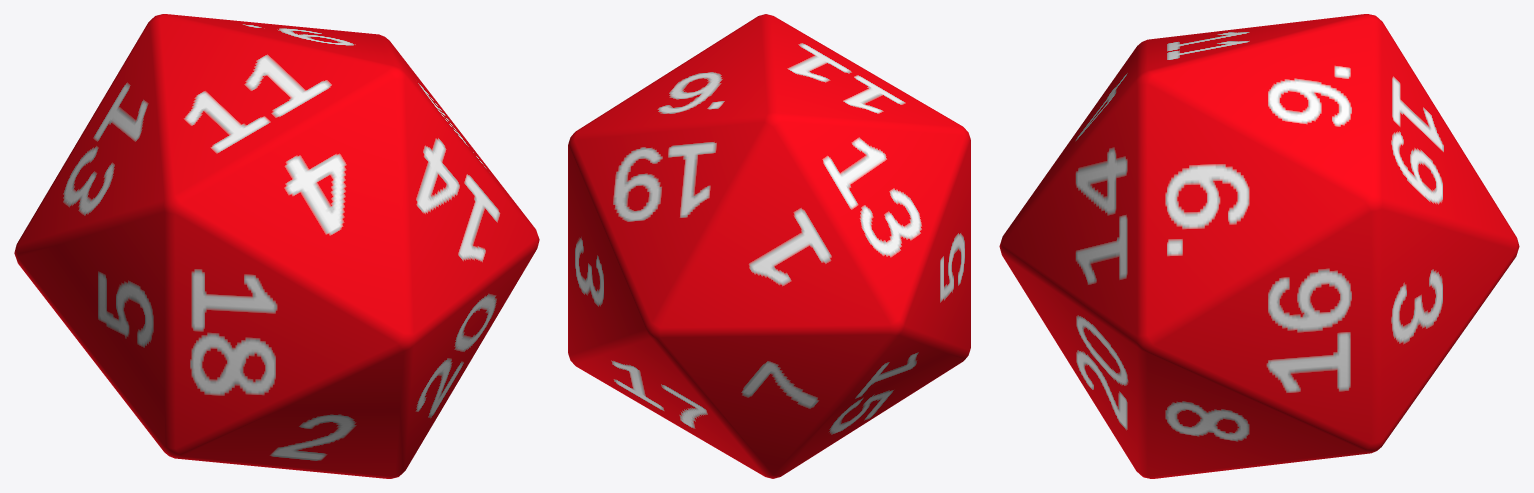
The picture shows the model from 3 angles, left to right: view 1: azimuth 30°, elevation 25°; view 2: azimuth 150°, elevation 25°; view 3: azimuth 270°, elevation 25°; orthographic projection. The views are drawn at different scales.
Parts seen in each view (by area): view 1: 20Red_20Red_0; view 2: 20Red_20Red_0; view 3: 20Red_20Red_0.
Boxes of the visible parts, bbox=[...] form: 20Red_20Red_0: bbox=[14, 14, 539, 478]; 20Red_20Red_0: bbox=[568, 14, 970, 478]; 20Red_20Red_0: bbox=[999, 14, 1519, 478].
Size of the model in its own units: 1.77 by 1.69 by 1.97.
1 material, 1 textured.
